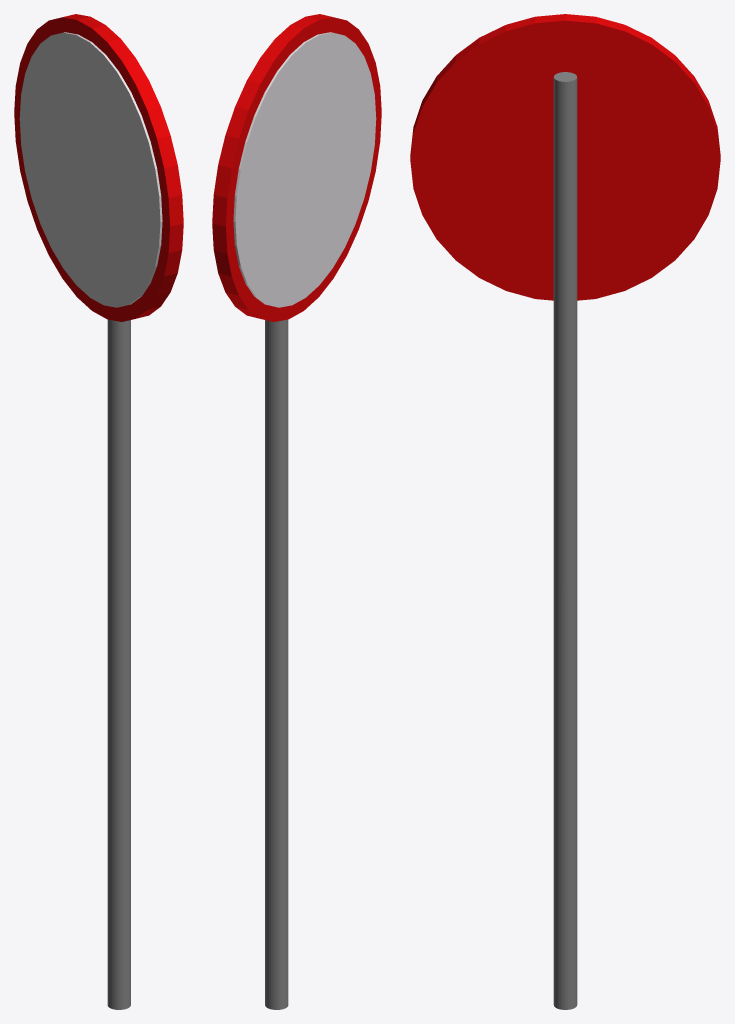
The model's file is signsCircle.fbx.
3 views of the same model, side by side, from view 1: azimuth 30°, elevation 25°; view 2: azimuth 150°, elevation 25°; view 3: azimuth 270°, elevation 25° (orthographic).
Parts seen in each view (by area): view 1: Cylinder.002, Cylinder, Cylinder.001; view 2: Cylinder.002, Cylinder, Cylinder.001; view 3: Cylinder.001, Cylinder.
Part boxes in pixels (x1,y1,x2,y2): Cylinder.002: [19, 32, 162, 307]; Cylinder: [107, 319, 130, 1009]; Cylinder.001: [14, 14, 183, 321]; Cylinder.002: [233, 32, 376, 307]; Cylinder: [265, 319, 288, 1009]; Cylinder.001: [212, 14, 381, 321]; Cylinder.001: [410, 14, 720, 300]; Cylinder: [553, 72, 577, 1009].
Size of the model in its own units: 65.36 by 1564 by 450.
